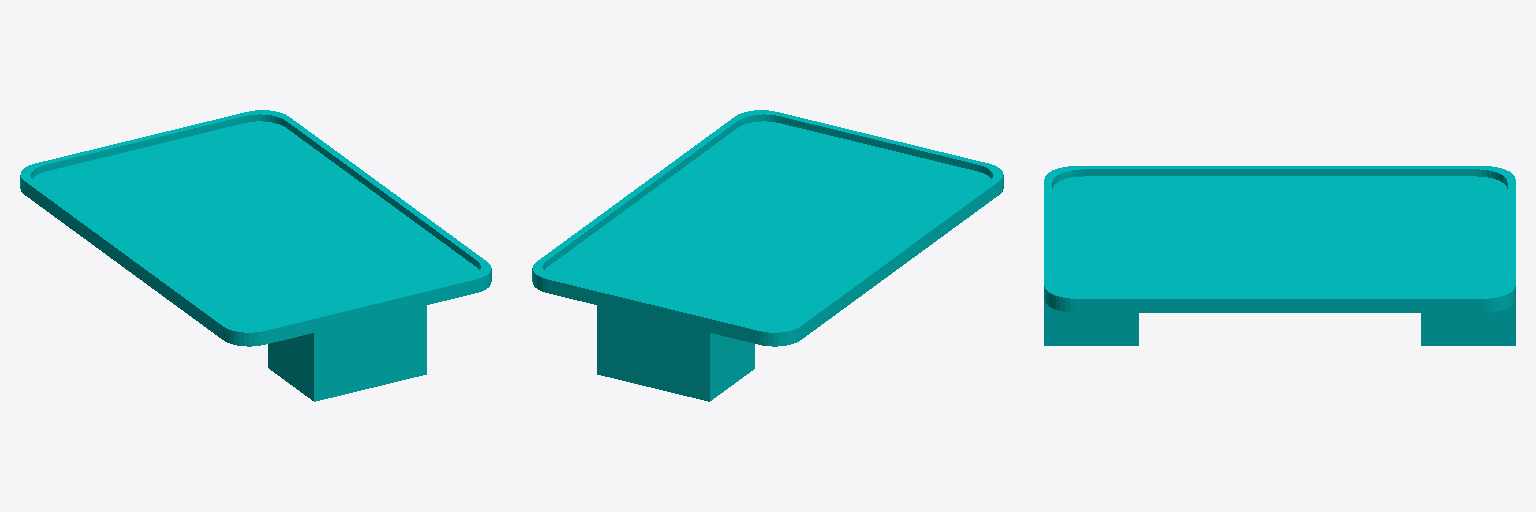
robot.urdf — tray:
<?xml version="1.0" ?>

<robot name="tray">

	<!-- Link 0 -->
	<link name="link_0">
		<inertial>
			<mass value="0.2" />
			<inertia ixx="0.004168" ixy="0.0" ixz="0.0" iyy="0.001043" iyz="0.0" izz="0.00521" />
			<origin xyz="0 0 0" />
		</inertial>
		<visual>
			<geometry>
				<mesh filename="objects/tray.dae"/>
			</geometry>
		</visual>
		<collision>
			<geometry>
				<mesh filename="objects/tray.dae"/>
			</geometry>
		</collision>
	</link>

</robot>

--- Facts derived from the render (not from the file) ---
3 views of the same robot in one strip: view 1: azimuth 30°, elevation 25°; view 2: azimuth 150°, elevation 25°; view 3: azimuth 270°, elevation 25° (orthographic).
Robot: tray — 1 links, 0 joints (none); root link link_0; default pose: every joint at zero.
Links seen in each view (by area): view 1: link_0; view 2: link_0; view 3: link_0.
Boxes of the visible links, box(x1,y1,x2,y2) form: link_0: box(20, 110, 491, 401); link_0: box(532, 110, 1003, 401); link_0: box(1044, 166, 1515, 345).
Size in the robot's own frame: 0.2 by 0.3 by 0.06 metres.
1 mesh visuals loaded from 1 distinct referenced files (1 Collada DAE).